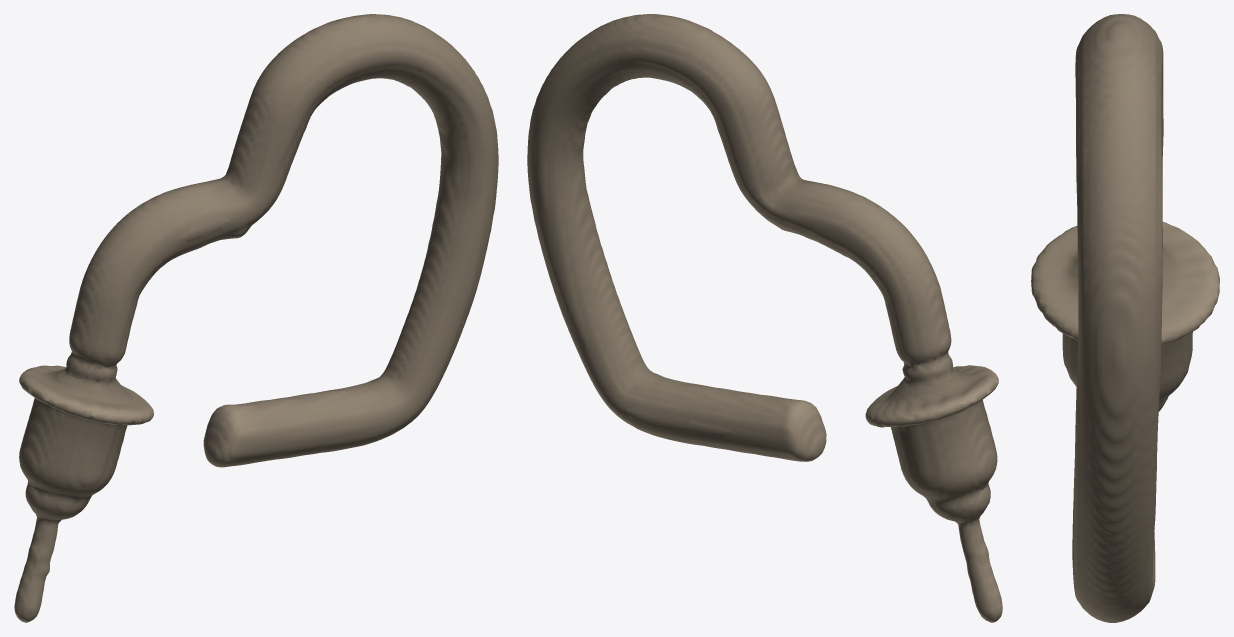
The picture shows the model from 3 angles, left to right: view 1: azimuth 30°, elevation 25°; view 2: azimuth 150°, elevation 25°; view 3: azimuth 270°, elevation 25°; orthographic projection. The views are drawn at different scales.
Visible parts, largest first — view 1: metal; view 2: metal; view 3: metal.
Part boxes in pixels (x1=…): metal: x1=14, y1=14, x2=498, y2=622; metal: x1=527, y1=14, x2=1002, y2=622; metal: x1=1031, y1=14, x2=1219, y2=622.
Bounding box in the file's own units: 1.85 × 1.95 × 0.4698.
